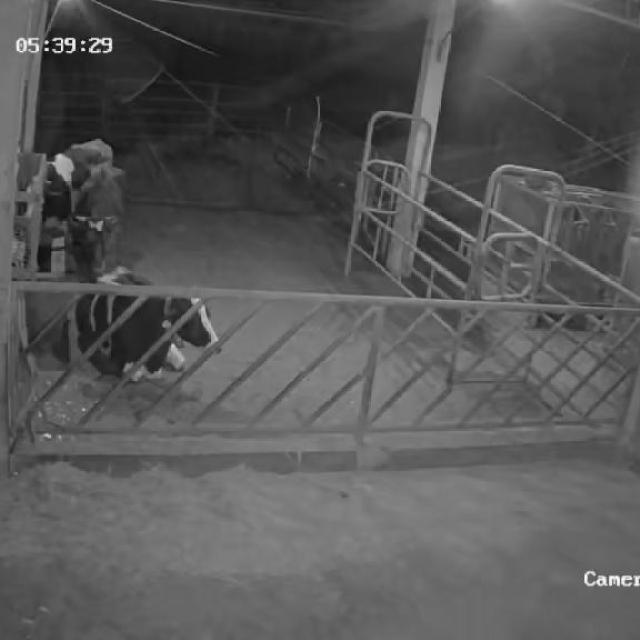lying down: (69, 269, 224, 381)
standing: (36, 138, 115, 230), (68, 162, 124, 272)
